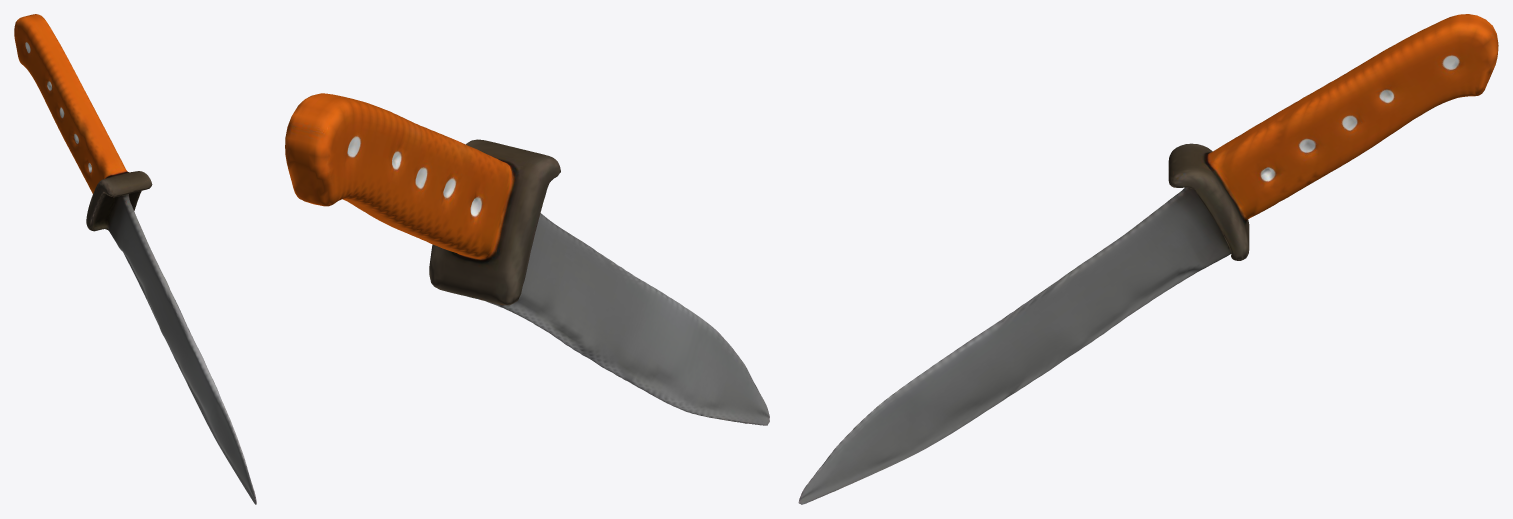
Rendered from knife.glb.
The picture shows the model from 3 angles, left to right: view 1: azimuth 30°, elevation 25°; view 2: azimuth 150°, elevation 25°; view 3: azimuth 270°, elevation 25°; orthographic projection. The views are drawn at different scales.
Visible parts, largest first — view 1: model.001; view 2: model.001; view 3: model.001.
Boxes of the visible parts, x1,y1,x2,y2 form: model.001: (14, 14, 256, 504); model.001: (285, 93, 769, 425); model.001: (798, 14, 1498, 504).
Size of the model in its own units: 0.1428 by 1 by 1.3.
1 material, 1 textured.
